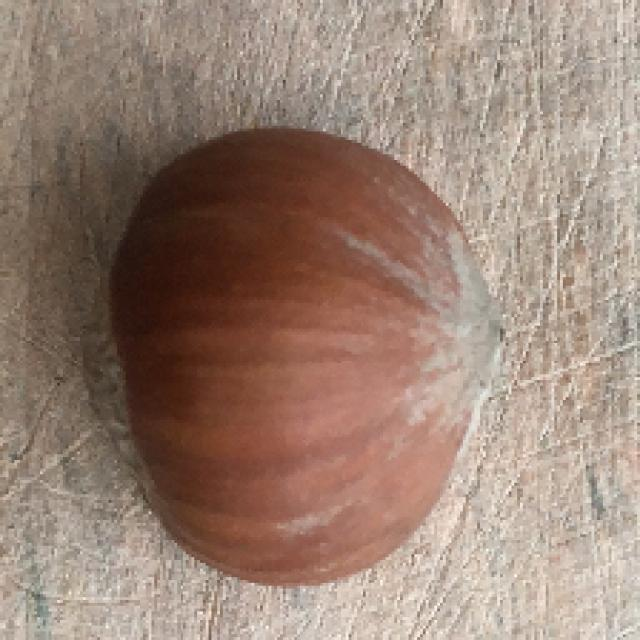damagedHazelnut: (79, 119, 506, 586)
